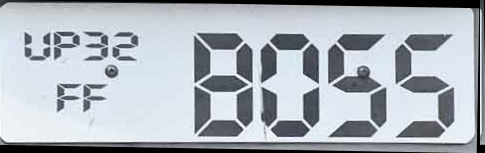character: (192, 29, 255, 139), (259, 30, 321, 137), (326, 31, 388, 138), (394, 30, 455, 138), (22, 29, 52, 61), (111, 29, 139, 62), (82, 29, 108, 62), (51, 30, 80, 58), (55, 81, 81, 112), (81, 81, 105, 111)
